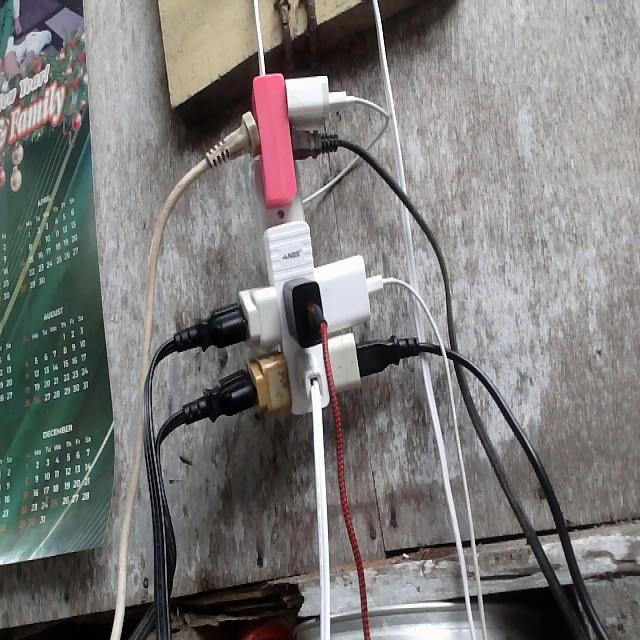-: (165, 69, 427, 423)
